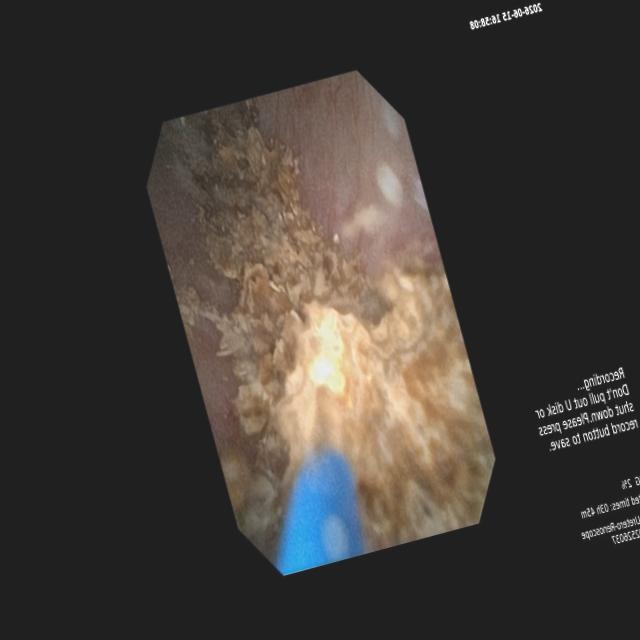laser-fibre: (308, 386, 348, 464)
laser_dot: (312, 356, 335, 385)
stone-new: (199, 121, 494, 555)
